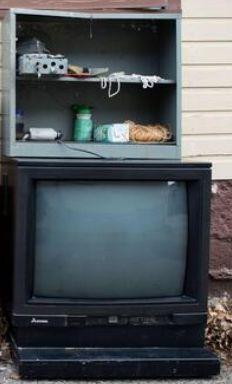electronic: (5, 159, 215, 330)
